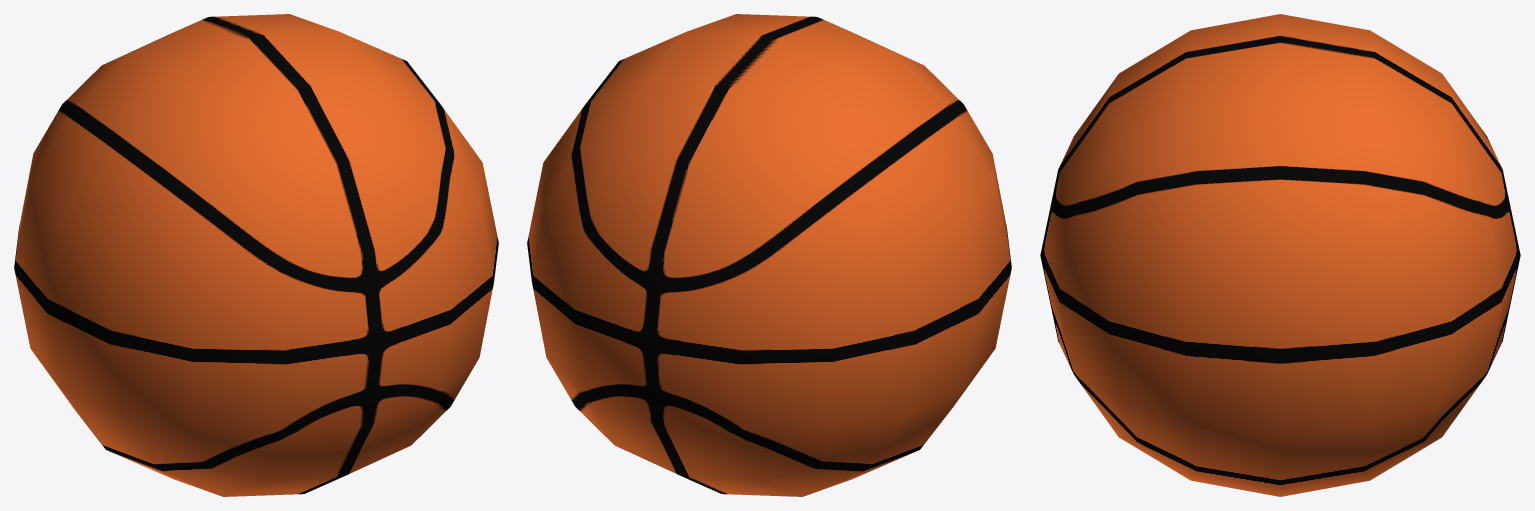
Rendered from Basketball.fbx.
3 views of the same model, side by side, from view 1: azimuth 30°, elevation 25°; view 2: azimuth 150°, elevation 25°; view 3: azimuth 270°, elevation 25° (orthographic).
Visible parts, largest first — view 1: Basketball; view 2: Basketball; view 3: Basketball.
Boxes of the visible parts, x1,y1,x2,y2 form: Basketball: [14, 14, 498, 496]; Basketball: [527, 14, 1011, 496]; Basketball: [1040, 14, 1520, 496].
Bounding box in the file's own units: 23.72 × 23.72 × 23.72.
